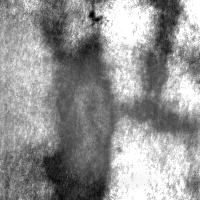patches: (44, 43, 188, 187), (92, 54, 200, 184), (42, 32, 121, 199), (0, 19, 74, 159), (125, 1, 199, 133)
